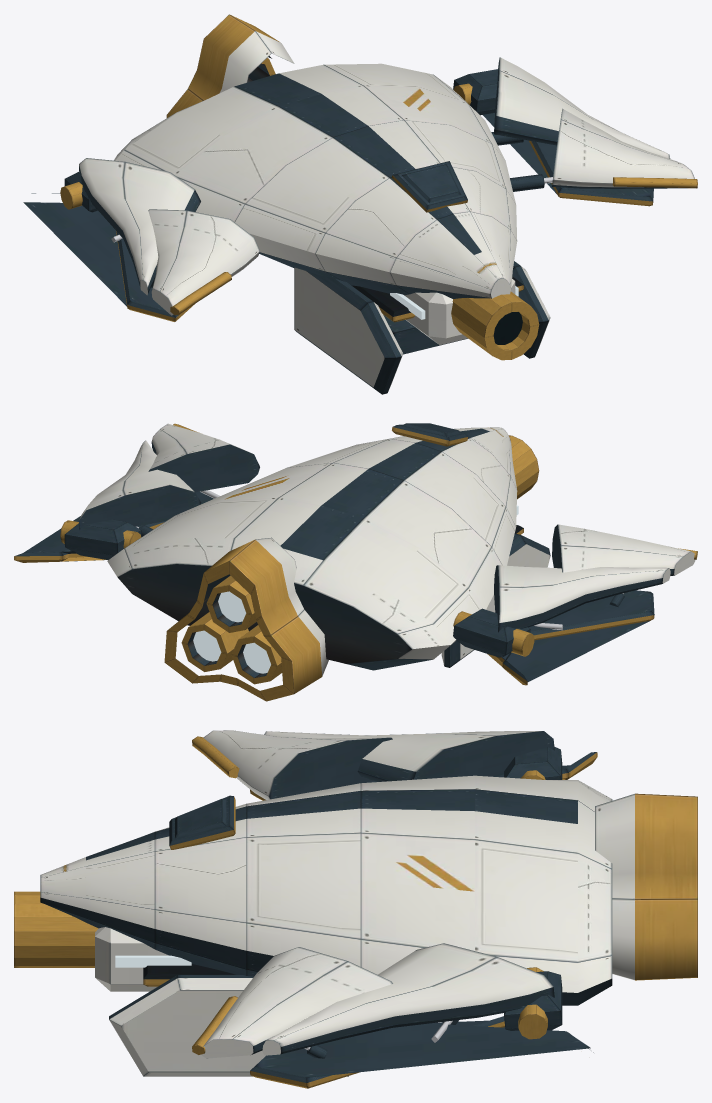
Rendered from voyager-europa-l01-laser.glb.
3 renders of one model, top to bottom at view 1: azimuth 30°, elevation 25°; view 2: azimuth 150°, elevation 25°; view 3: azimuth 270°, elevation 25°, orthographic. The views are drawn at different scales.
Parts seen in each view (by area): view 1: Drone; view 2: Drone; view 3: Drone.
Boxes of the visible parts, left/top/right/bottom form: Drone: left=23, top=14, right=697, bottom=394; Drone: left=14, top=423, right=697, bottom=701; Drone: left=14, top=730, right=697, bottom=1088.
Size of the model in its own units: 1.18 by 0.4198 by 1.09.
Materials: 3 (3 with a texture image).
